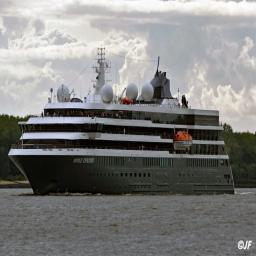cruises: (9, 47, 238, 198)
